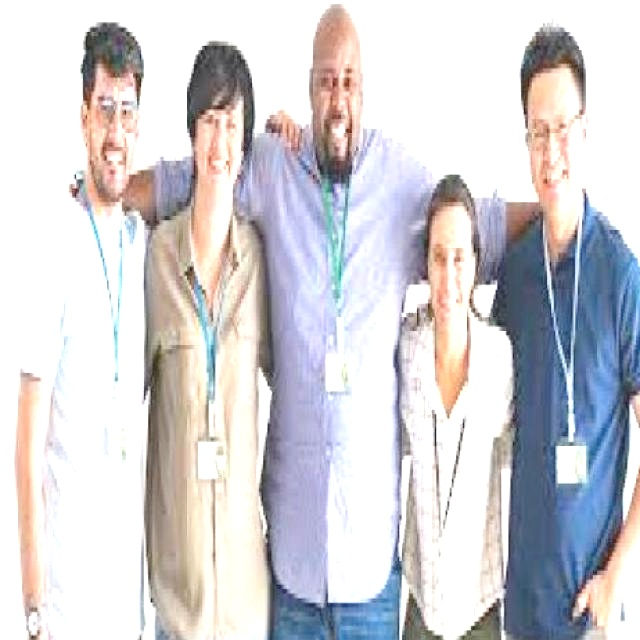ID_card: (528, 202, 600, 488), (178, 273, 251, 496), (71, 208, 130, 475), (310, 186, 358, 405)
